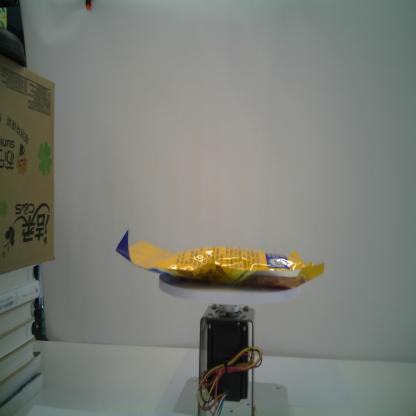Dried Fruit: (115, 228, 326, 289)
